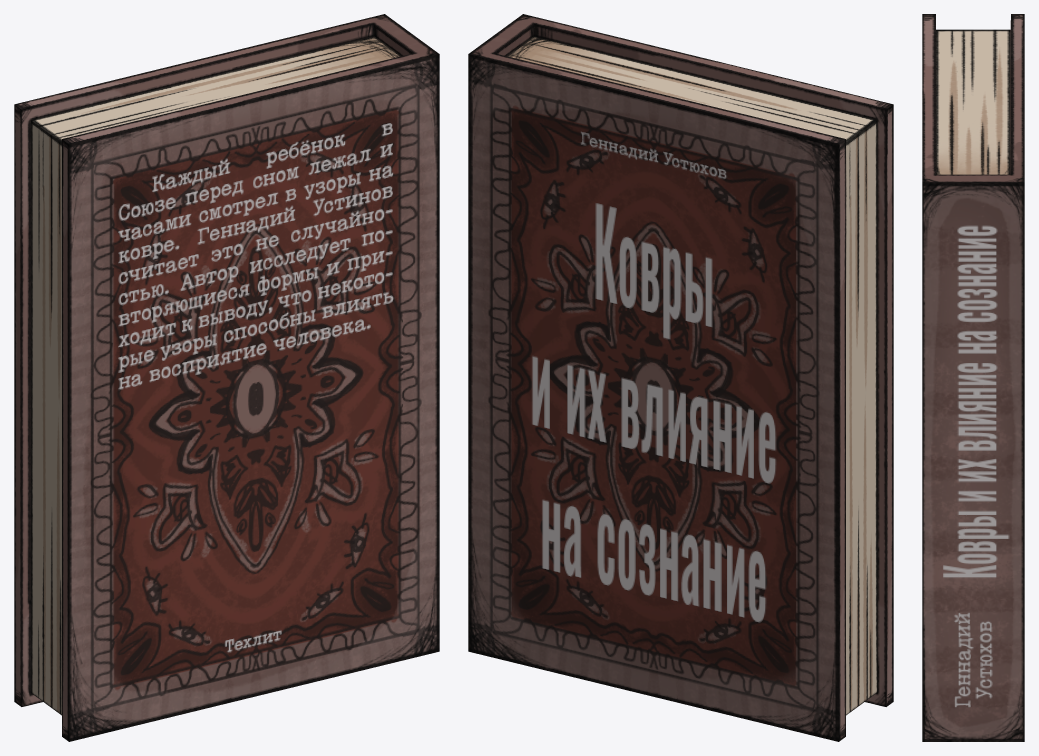
The model's file is book_13.fbx.
The picture shows the model from 3 angles, left to right: view 1: azimuth 30°, elevation 25°; view 2: azimuth 150°, elevation 25°; view 3: azimuth 270°, elevation 25°; orthographic projection. The views are drawn at different scales.
Visible parts, largest first — view 1: book_1; view 2: book_1; view 3: book_1.
Part boxes in pixels (left/top/right/bottom): book_1: left=14, top=14, right=439, bottom=741; book_1: left=468, top=14, right=893, bottom=741; book_1: left=922, top=14, right=1024, bottom=741.
Bounding box in the file's own units: 29.92 × 46.11 × 7.66.
Materials: 1 (1 with a texture image).
